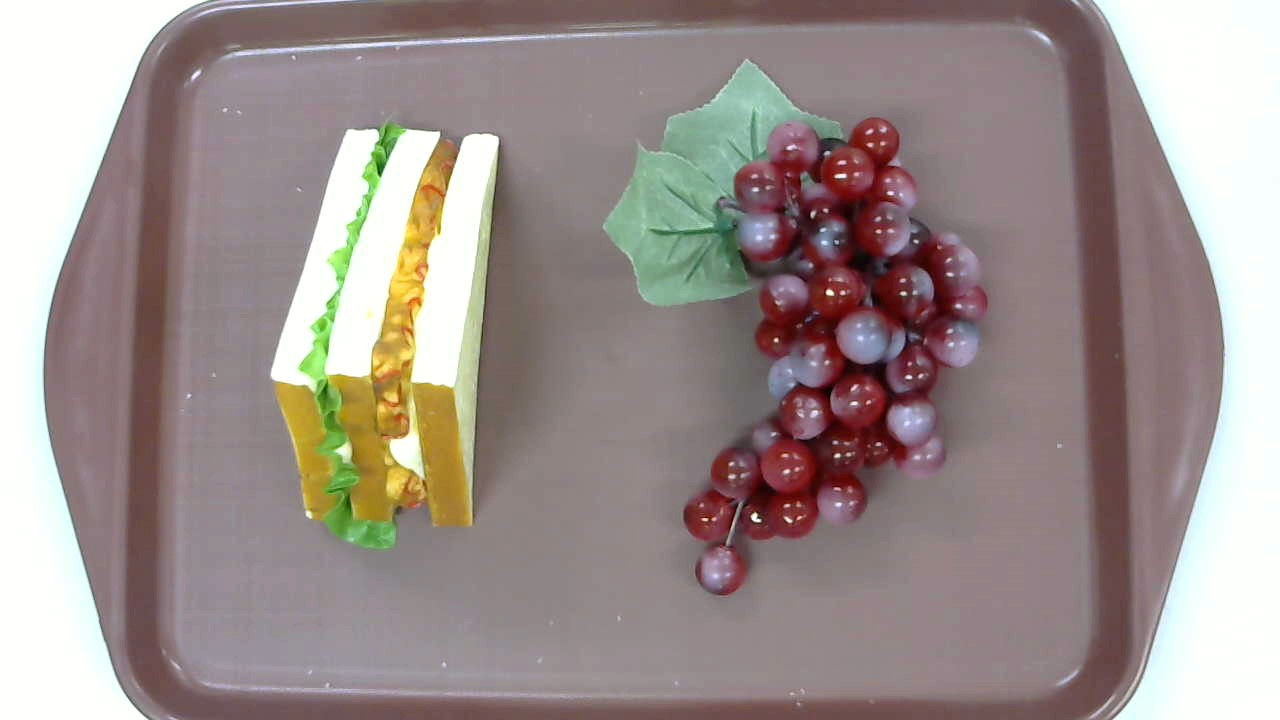grape: (603, 57, 988, 597)
sandwich: (270, 116, 501, 550)
